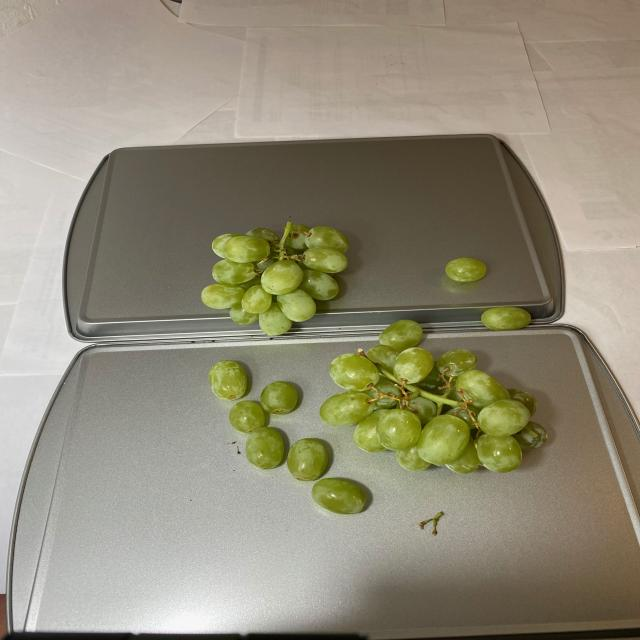grapes: (202, 225, 551, 514)
